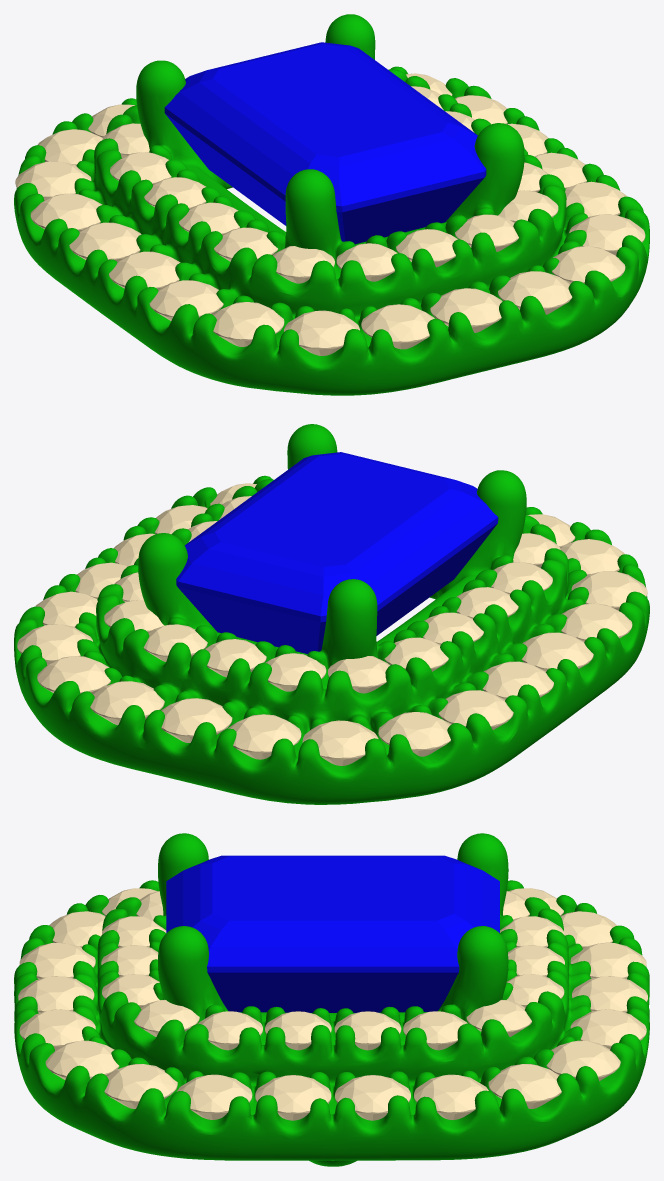
The picture shows the model from 3 angles, top to bottom: view 1: azimuth 30°, elevation 25°; view 2: azimuth 150°, elevation 25°; view 3: azimuth 270°, elevation 25°; orthographic projection.
Visible parts, largest first — view 1: Metal01, Diamond_Emerald, Diamond_Round.007, Diamond_Round.006, Diamond_Round.008, Diamond_Round.005, Diamond_Round.004, Diamond_Round.011, Diamond_Round.009, Diamond_Round.003, Diamond_Round.012, Diamond_Round.010 (+19 smaller); view 2: Metal01, Diamond_Emerald, Diamond_Round.014, Diamond_Round.015, Diamond_Round.013, Diamond_Round.016, Diamond_Round.039, Diamond_Round.010, Diamond_Round.017, Diamond_Round.012, Diamond_Round.009, Diamond_Round.011 (+18 smaller); view 3: Metal01, Diamond_Emerald, Diamond_Round, Diamond_Round.018, Diamond_Round.019, Diamond_Round.001, Diamond_Round.020, Diamond_Round.002, Diamond_Round.017, Diamond_Round.003, Diamond_Round.039, Diamond_Round.004 (+22 smaller).
Boxes of the visible parts, bbox=[...] form: Metal01: bbox=[14, 14, 649, 395]; Diamond_Emerald: bbox=[164, 42, 486, 244]; Diamond_Round.007: bbox=[284, 310, 359, 355]; Diamond_Round.006: bbox=[361, 304, 434, 349]; Diamond_Round.008: bbox=[212, 302, 284, 346]; Diamond_Round.005: bbox=[430, 288, 502, 332]; Diamond_Round.004: bbox=[498, 271, 572, 314]; Diamond_Round.011: bbox=[69, 222, 141, 261]; Diamond_Round.009: bbox=[149, 280, 223, 320]; Diamond_Round.003: bbox=[552, 246, 625, 284]; Diamond_Round.012: bbox=[30, 193, 102, 231]; Diamond_Round.010: bbox=[109, 251, 180, 289]; Metal01: bbox=[14, 424, 649, 804]; Diamond_Emerald: bbox=[176, 452, 498, 653]; Diamond_Round.014: bbox=[302, 720, 378, 765]; Diamond_Round.015: bbox=[228, 714, 301, 759]; Diamond_Round.013: bbox=[378, 712, 450, 756]; Diamond_Round.016: bbox=[161, 698, 232, 742]; Diamond_Round.039: bbox=[90, 681, 164, 725]; Diamond_Round.010: bbox=[521, 632, 593, 671]; Diamond_Round.017: bbox=[37, 656, 110, 693]; Diamond_Round.012: bbox=[438, 690, 513, 729]; Diamond_Round.009: bbox=[561, 603, 632, 641]; Diamond_Round.011: bbox=[482, 661, 553, 699]; Metal01: bbox=[14, 833, 649, 1166]; Diamond_Emerald: bbox=[166, 855, 499, 1012]; Diamond_Round: bbox=[255, 1075, 331, 1120]; Diamond_Round.018: bbox=[488, 1064, 561, 1108]; Diamond_Round.019: bbox=[414, 1074, 488, 1120]; Diamond_Round.001: bbox=[177, 1074, 252, 1119]; Diamond_Round.020: bbox=[335, 1075, 410, 1120]; Diamond_Round.002: bbox=[104, 1064, 177, 1108]; Diamond_Round.017: bbox=[546, 1040, 620, 1081]; Diamond_Round.003: bbox=[45, 1040, 119, 1079]; Diamond_Round.039: bbox=[570, 1009, 646, 1049]; Diamond_Round.004: bbox=[19, 1009, 95, 1049].
Bounding box in the file's own units: 11.62 × 6.44 × 13.34.
